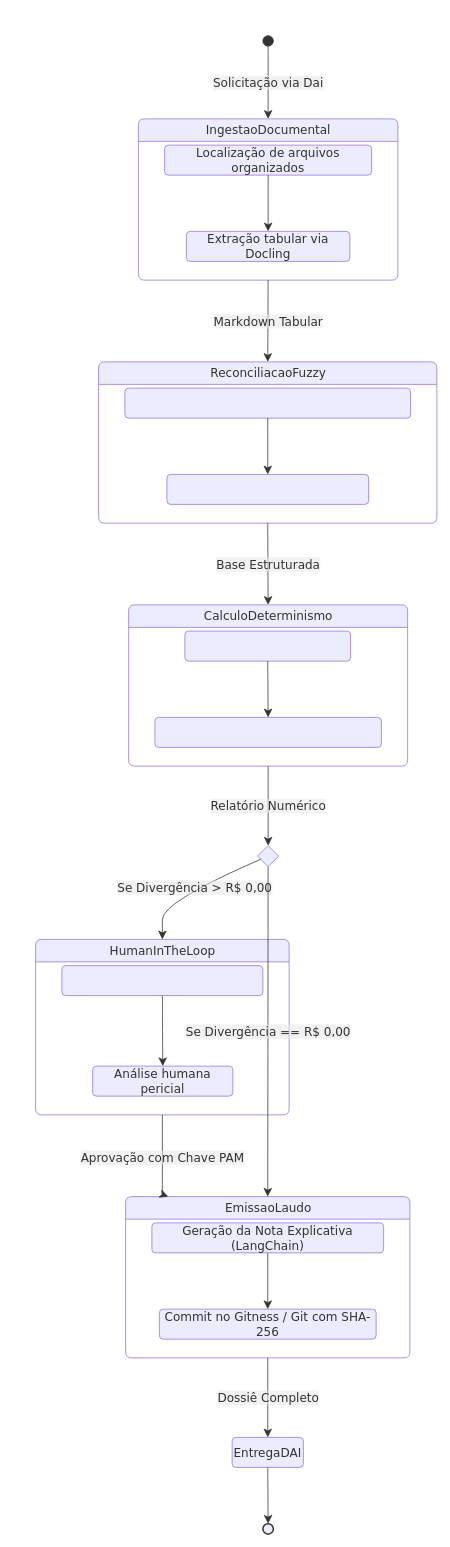
This 450x1547 diagram has some shape labels left out. Each missing label, with the centre of its shape:
Batimento Sienge x Extrato x Contrato (RapidFuzz): (267,402)
Bloqueio de publicação automática: (162,980)
Comparativo (ERP vs Extrato vs Teórico): (267,732)
Recálculo via NumPy/Pandas: (267,645)
Validação de CNPJs e IDs de Títulos: (267,489)
